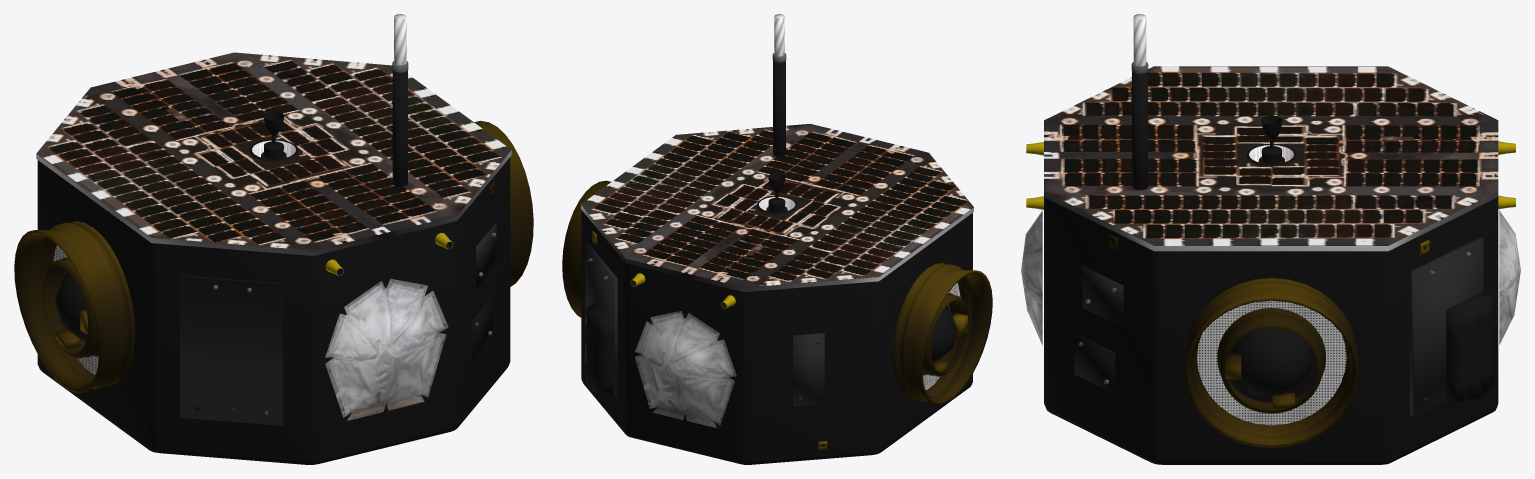
Rendered from IBEX.glb.
3 renders of one model, left to right at view 1: azimuth 30°, elevation 25°; view 2: azimuth 150°, elevation 25°; view 3: azimuth 270°, elevation 25°, orthographic. The views are drawn at different scales.
Visible parts, largest first — view 1: shiny_panel, black_krinkle, foil_silver, foil_gold, tex_01; view 2: black_krinkle, shiny_panel, foil_gold, tex_01, foil_silver; view 3: black_krinkle, shiny_panel, foil_silver, foil_gold, tex_01.
Part boxes in pixels (x1=…): shiny_panel: x1=36, y1=52, x2=511, y2=250; black_krinkle: x1=37, y1=70, x2=510, y2=464; foil_silver: x1=36, y1=61, x2=511, y2=425; foil_gold: x1=14, y1=120, x2=533, y2=393; tex_01: x1=53, y1=14, x2=448, y2=420; black_krinkle: x1=581, y1=60, x2=972, y2=464; shiny_panel: x1=581, y1=124, x2=973, y2=287; foil_gold: x1=562, y1=180, x2=992, y2=449; tex_01: x1=635, y1=14, x2=960, y2=427; foil_silver: x1=581, y1=53, x2=973, y2=406; black_krinkle: x1=1044, y1=71, x2=1498, y2=464; shiny_panel: x1=1044, y1=66, x2=1498, y2=245; foil_silver: x1=1044, y1=62, x2=1498, y2=416; foil_gold: x1=1026, y1=141, x2=1515, y2=447; tex_01: x1=1021, y1=14, x2=1520, y2=425.
Size of the model in its own units: 1.18 by 0.9804 by 1.12.
Materials: 5 (4 with a texture image).
